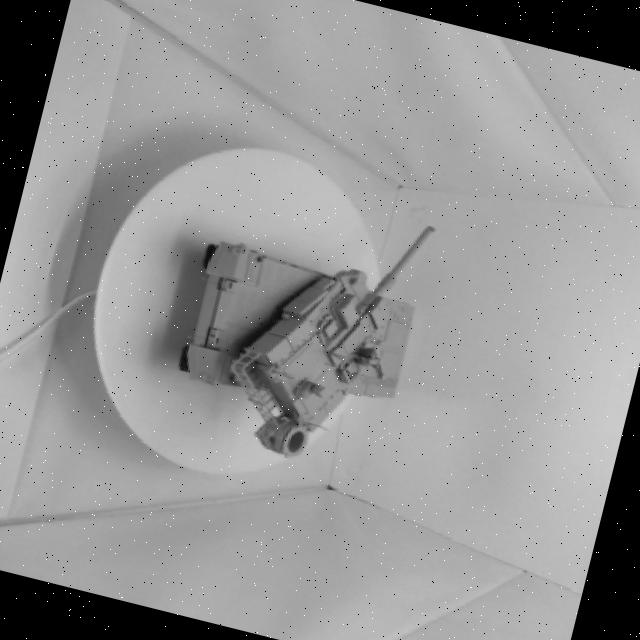korea tank: (132, 119, 497, 509)
